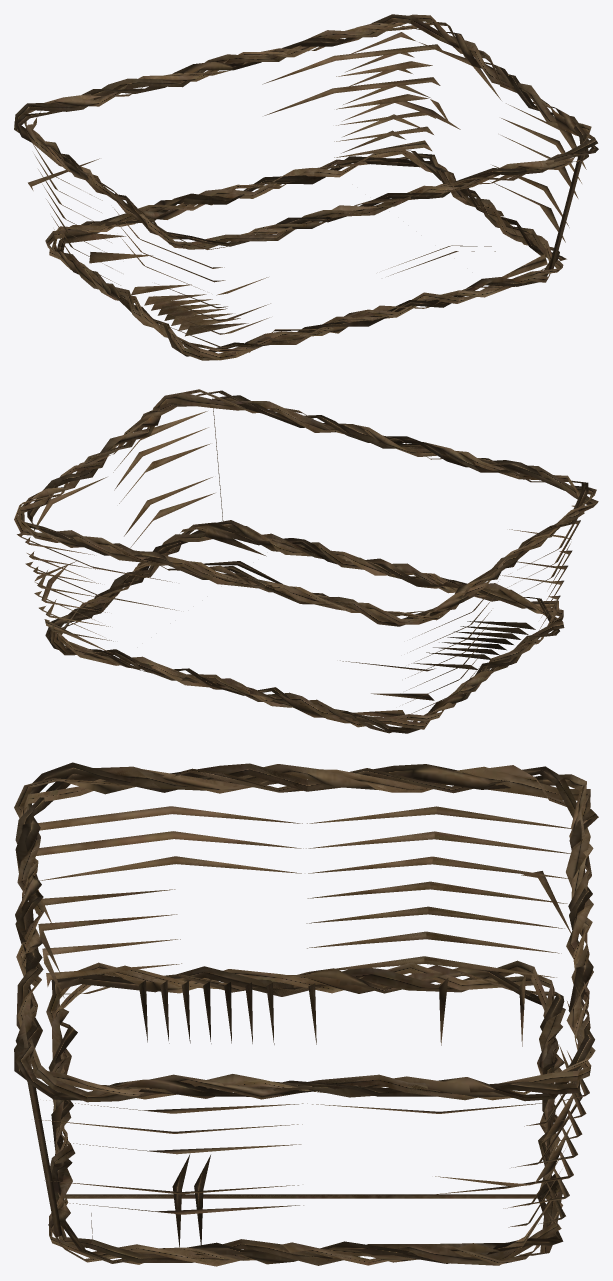
The model's file is basket-0-far.glb.
The picture shows the model from 3 angles, top to bottom: view 1: azimuth 30°, elevation 25°; view 2: azimuth 150°, elevation 25°; view 3: azimuth 270°, elevation 25°; orthographic projection. The views are drawn at different scales.
Parts seen in each view (by area): view 1: wicker_basket_01; view 2: wicker_basket_01; view 3: wicker_basket_01.
Boxes of the visible parts, x1,y1,x2,y2 form: wicker_basket_01: (14,14,598,360); wicker_basket_01: (14,389,598,733); wicker_basket_01: (14,762,598,1266).
Size of the model in its own units: 0.383 by 0.1172 by 0.2928.
1 material, 1 textured.
